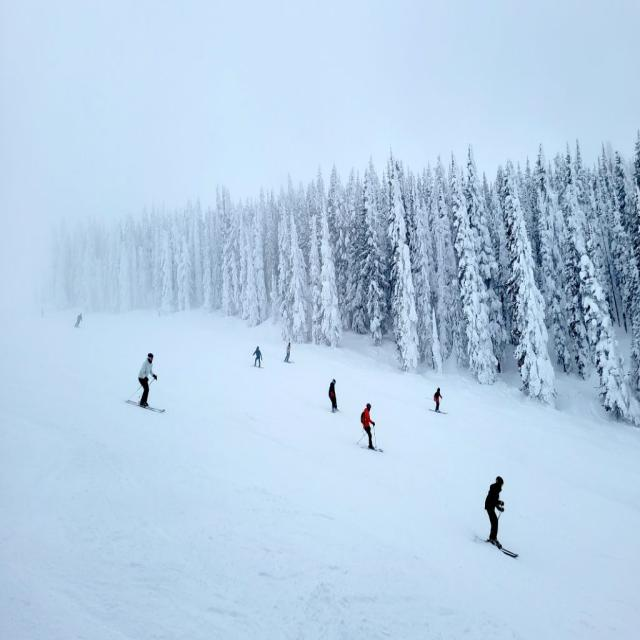skier: (465, 470, 528, 561), (127, 347, 167, 417), (356, 400, 388, 455), (427, 384, 450, 417), (282, 340, 297, 367), (72, 310, 86, 333)
snowboarder: (324, 377, 345, 416), (249, 345, 270, 371)
